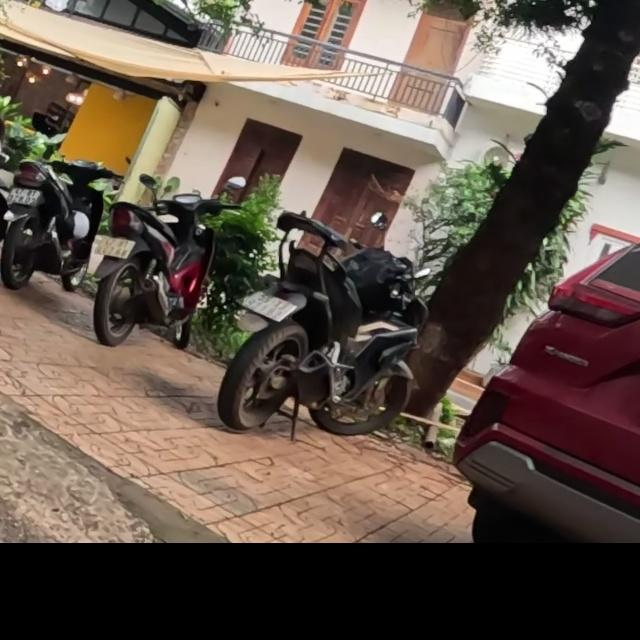license-plate: (91, 232, 136, 261)
